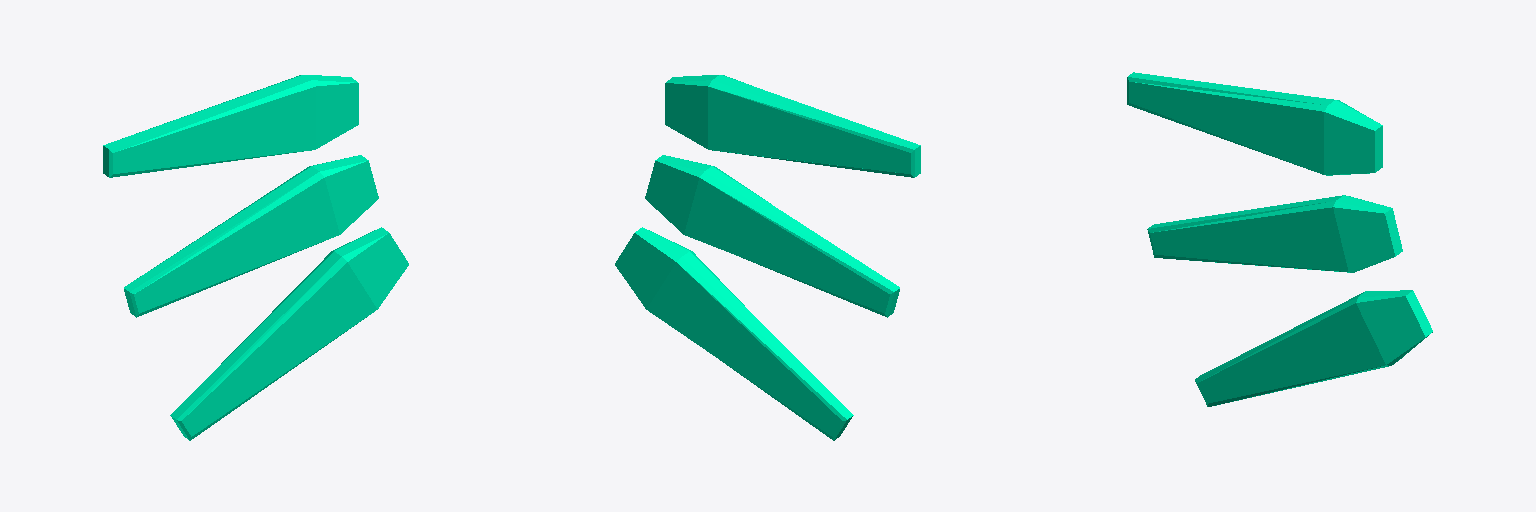
File: Wing Prism Trio.obj
3 renders of one model, left to right at view 1: azimuth 30°, elevation 25°; view 2: azimuth 150°, elevation 25°; view 3: azimuth 330°, elevation 25°, orthographic.
Visible parts, largest first — view 1: Wing Prism Trio; view 2: Wing Prism Trio; view 3: Wing Prism Trio.
Part boxes in pixels (x1,y1,x2,y2): Wing Prism Trio: (103, 75, 408, 440); Wing Prism Trio: (615, 75, 920, 440); Wing Prism Trio: (1127, 72, 1432, 406).
Bounding box in the file's own units: 2.23 × 2.36 × 0.2.